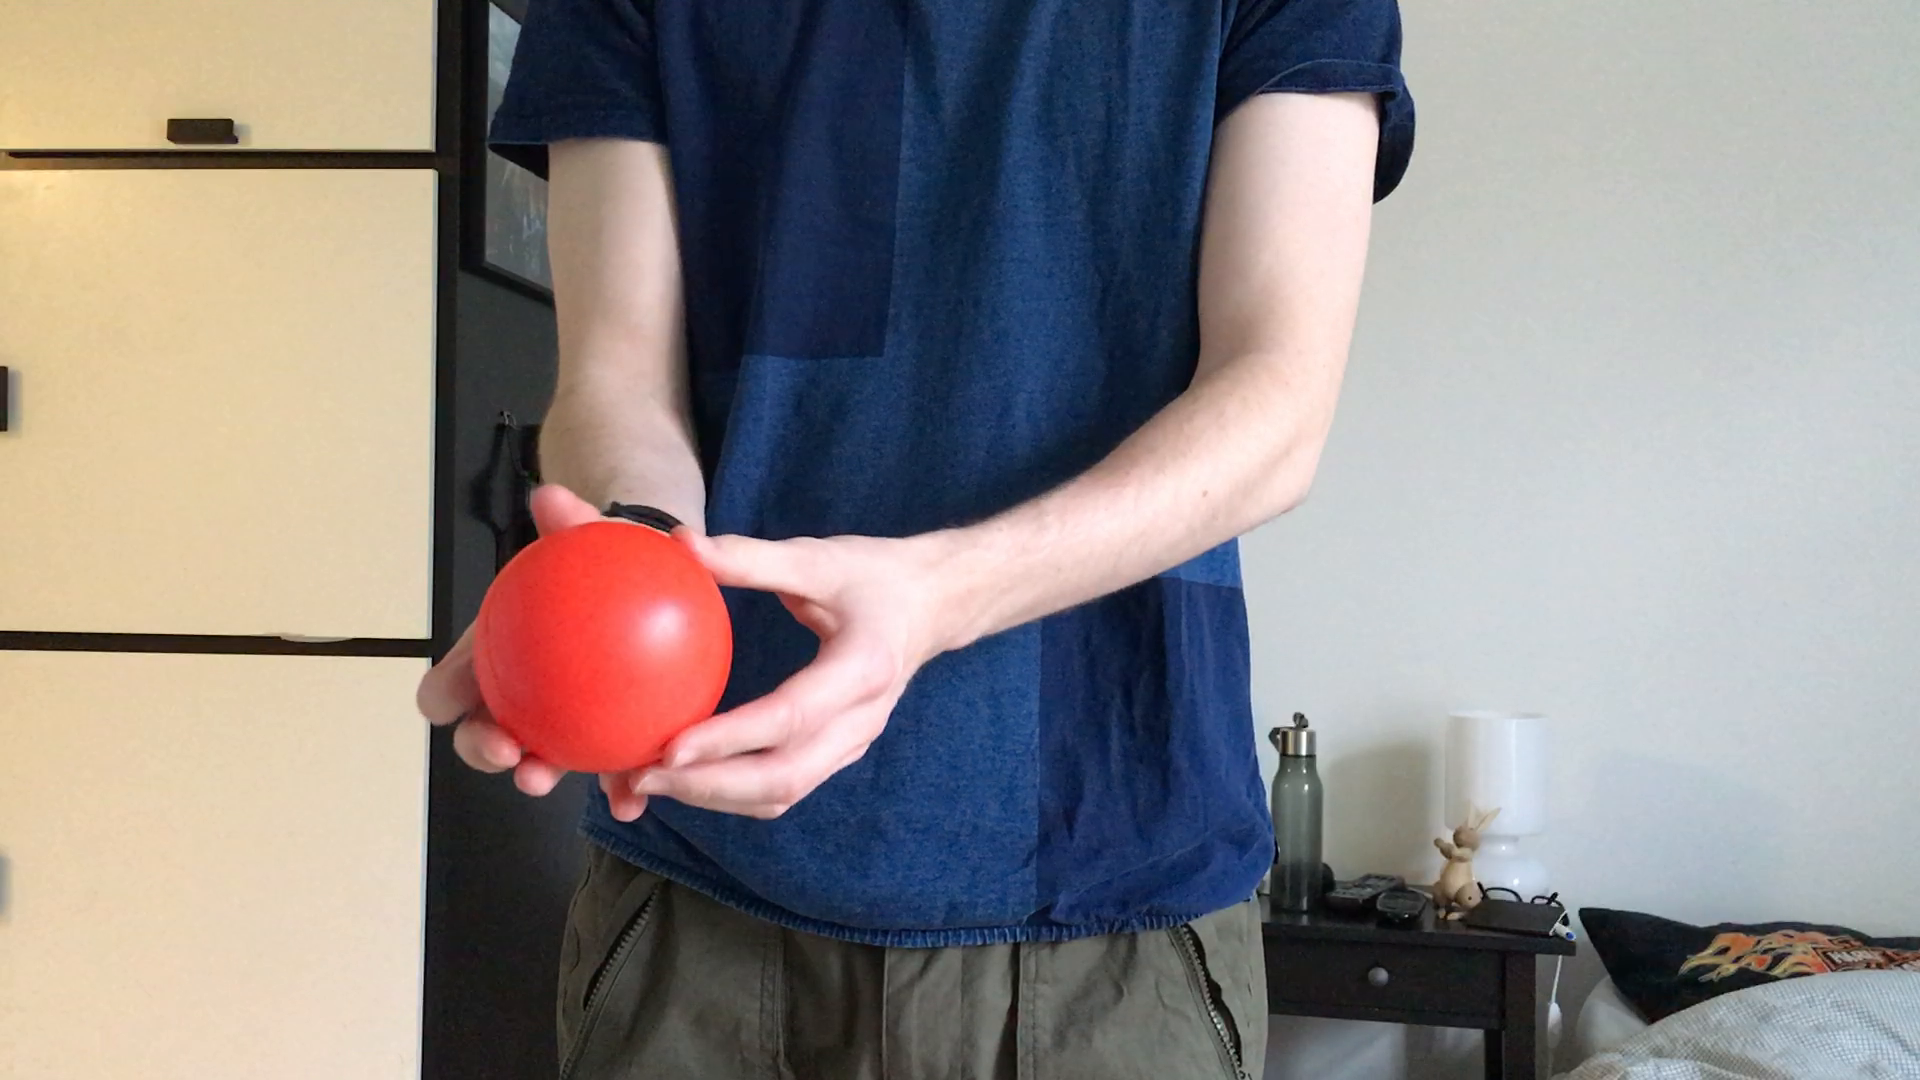Ball: (465, 522, 735, 782)
